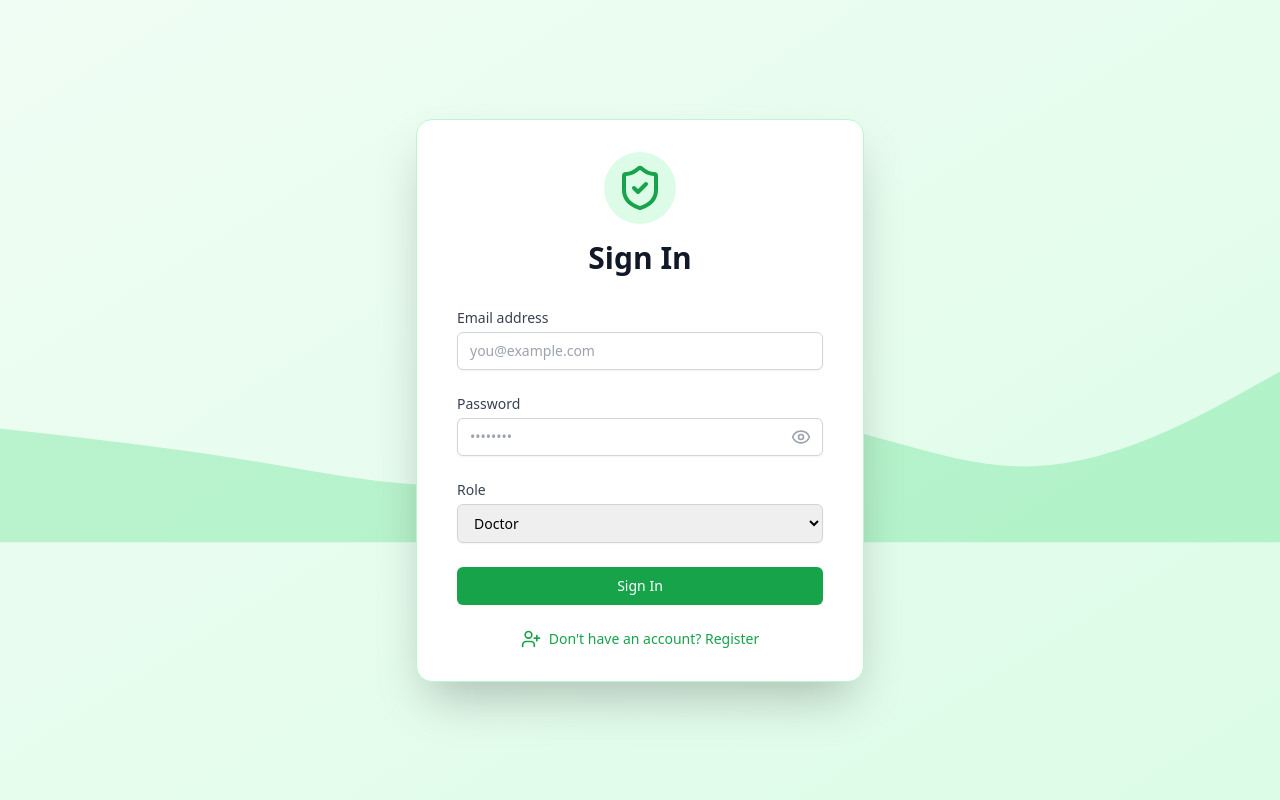
Test: SignIn Component - Comprehensive Test Suite › Error Handling › displays invalid credentials error
The image size is (1280, 800).
// Fill out form
Type "test@example.com" into the field labelled "Email address" at (640, 350), box [457, 332, 823, 370]
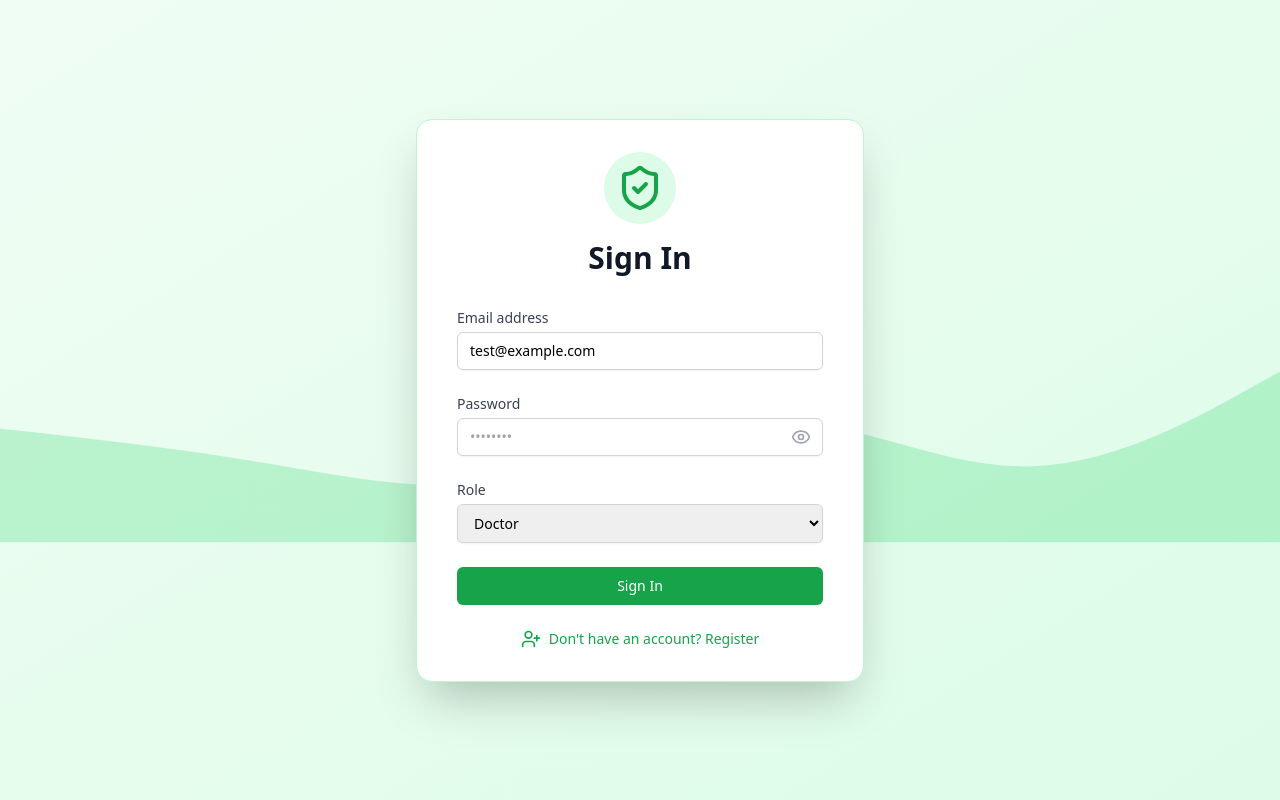
Type "wrongpassword" into the password field labelled "Password" at (640, 436), box [457, 418, 823, 456]
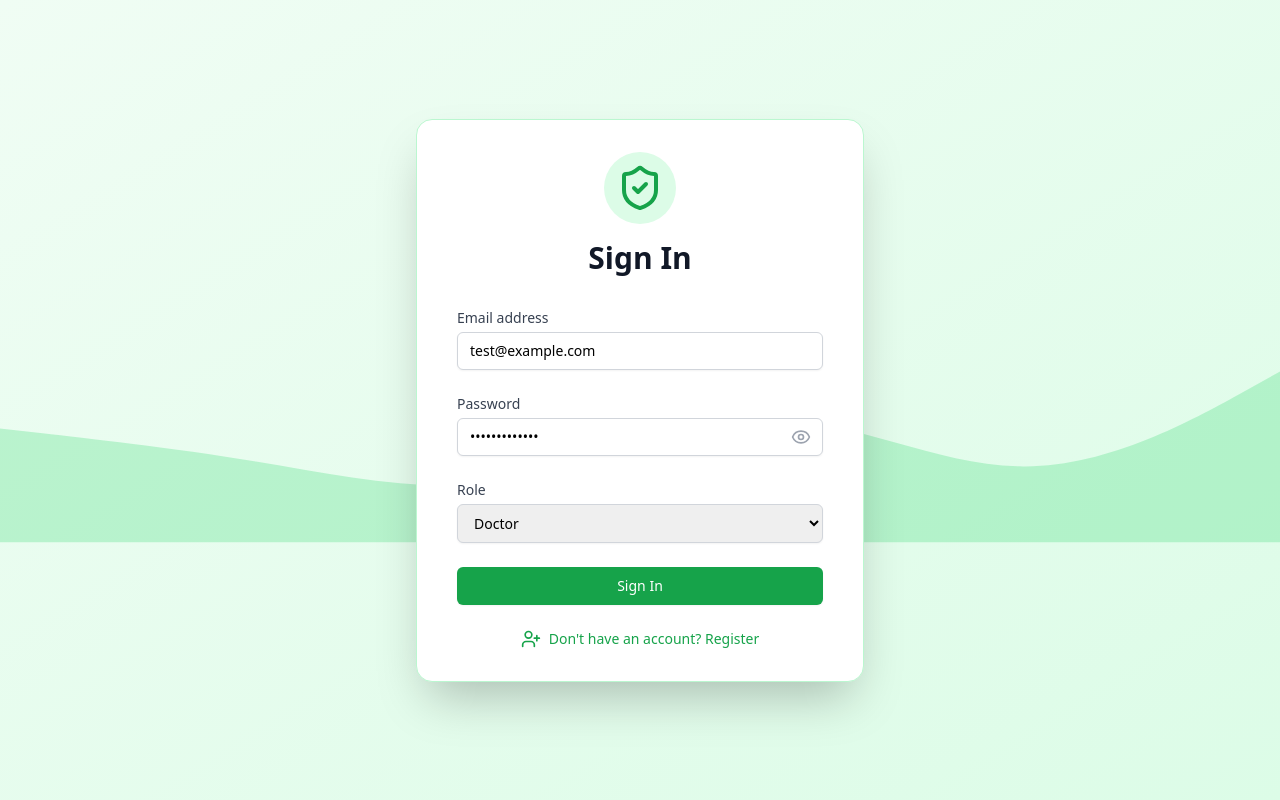
// Submit form
Submit the form from the button "Sign In", box [457, 566, 823, 604]
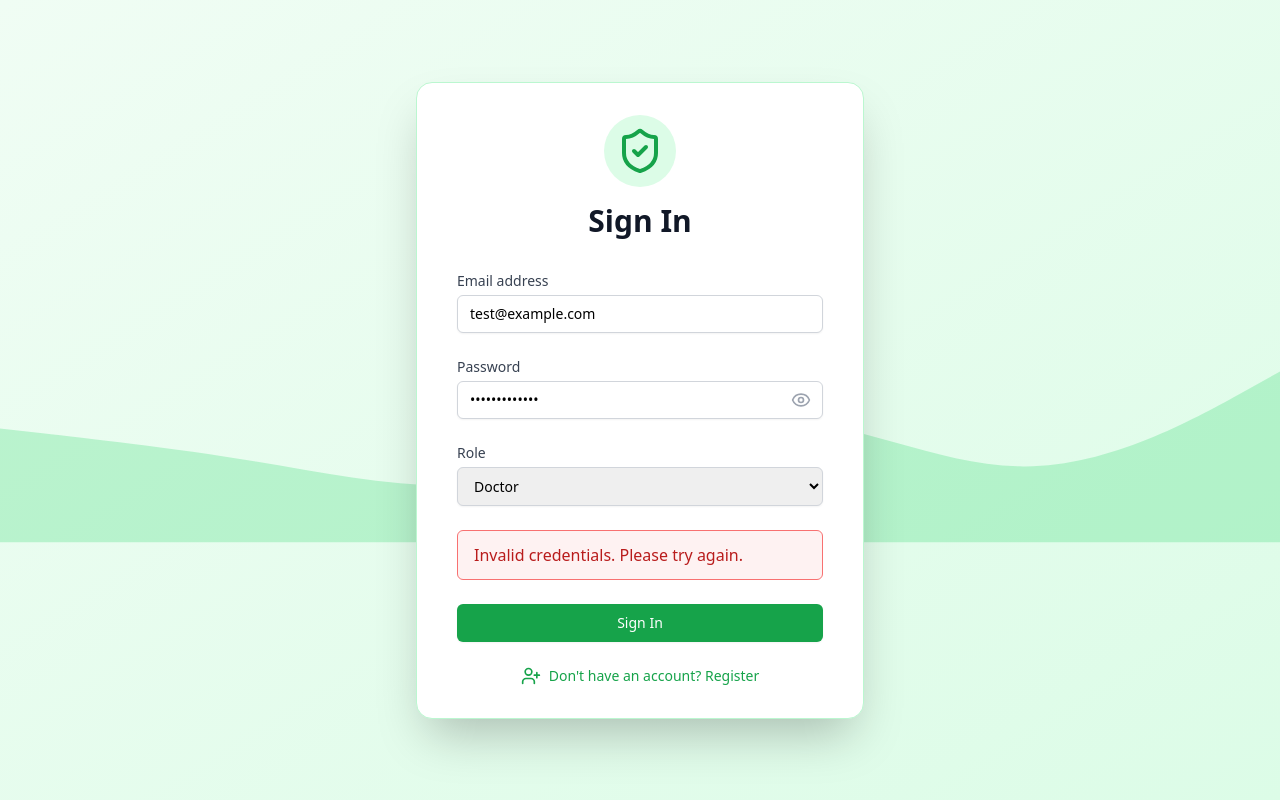
Expected: the text "Invalid credentials. Please try again." is shown, [474, 544, 743, 566]
